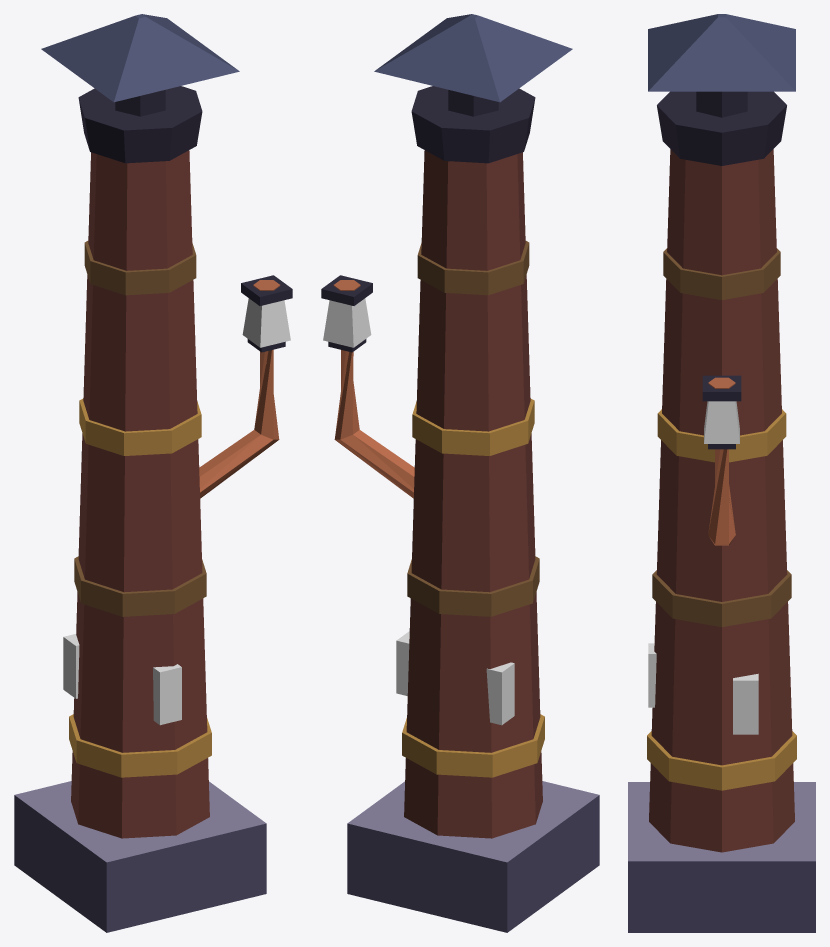
File: Fair_Chimney.fbx
3 renders of one model, left to right at view 1: azimuth 30°, elevation 25°; view 2: azimuth 150°, elevation 25°; view 3: azimuth 270°, elevation 25°, orthographic.
Parts seen in each view (by area): view 1: Fair_Chimney; view 2: Fair_Chimney; view 3: Fair_Chimney.
Part boxes in pixels (x1=…): Fair_Chimney: x1=14, y1=14, x2=292, y2=932; Fair_Chimney: x1=321, y1=14, x2=599, y2=932; Fair_Chimney: x1=628, y1=14, x2=815, y2=932.
Size of what is drawn, in the model's own units: 2.64 by 9.8 by 1.9.
2 materials, 1 textured.
